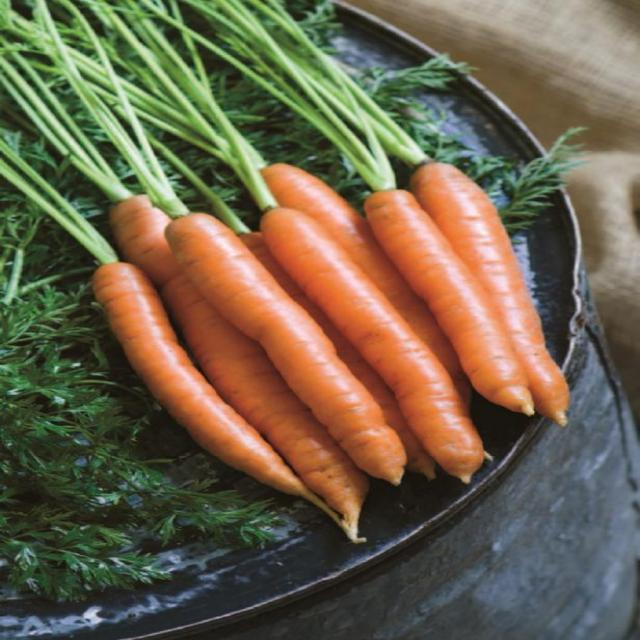carrot: (165, 204, 412, 482), (262, 205, 492, 476), (74, 255, 311, 496), (409, 161, 572, 428), (368, 187, 540, 420)
